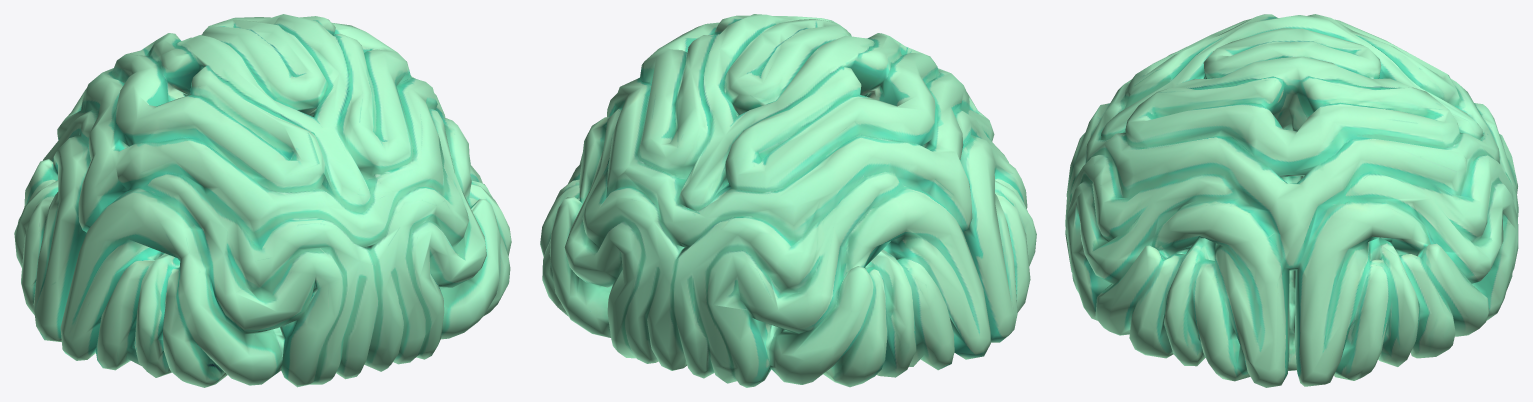
Rendered from static.glb.
3 views of the same model, side by side, from view 1: azimuth 30°, elevation 25°; view 2: azimuth 150°, elevation 25°; view 3: azimuth 270°, elevation 25° (orthographic). The views are drawn at different scales.
Parts seen in each view (by area): view 1: Mesh_0; view 2: Mesh_0; view 3: Mesh_0.
Part boxes in pixels (bbox=[...]): Mesh_0: bbox=[14, 14, 511, 387]; Mesh_0: bbox=[540, 14, 1036, 387]; Mesh_0: bbox=[1065, 14, 1518, 387].
Bounding box in the file's own units: 1.9 × 1.14 × 1.83.
1 material, 1 textured.
